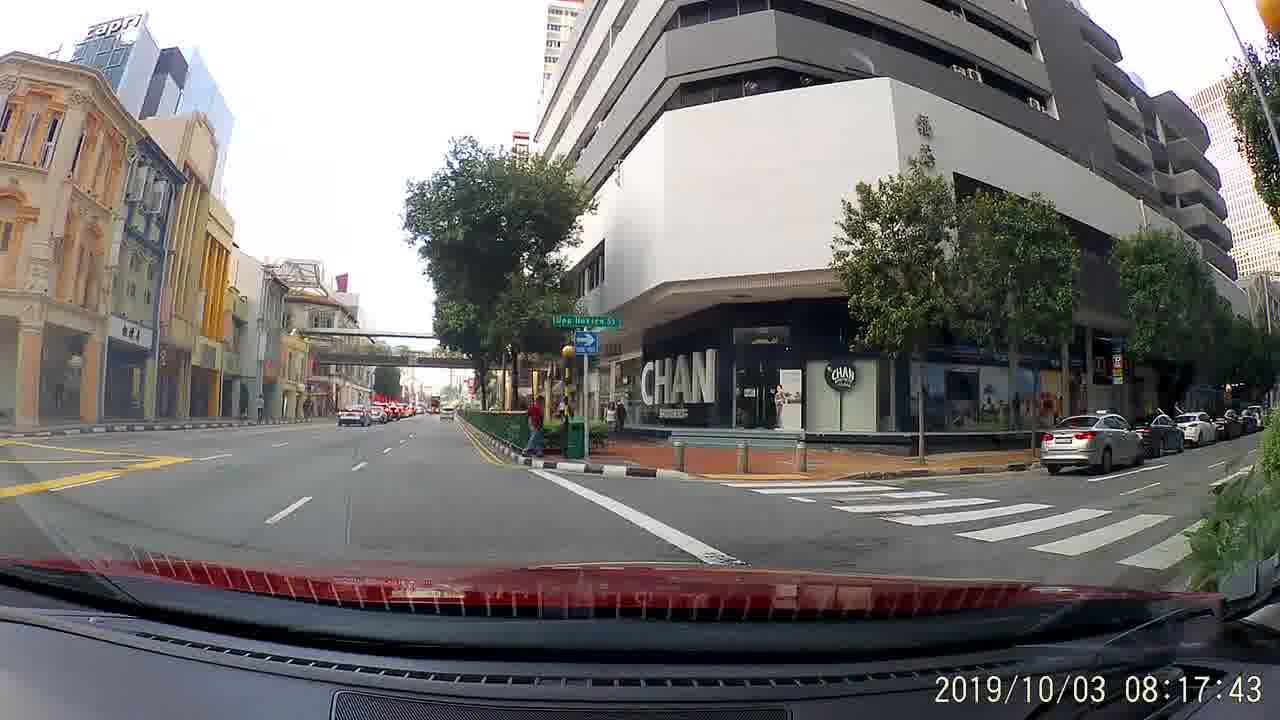car: (1040, 410, 1144, 469), (1124, 406, 1183, 454), (1174, 406, 1218, 448), (1207, 406, 1245, 437), (338, 406, 371, 426), (438, 403, 457, 421), (371, 402, 387, 422)
